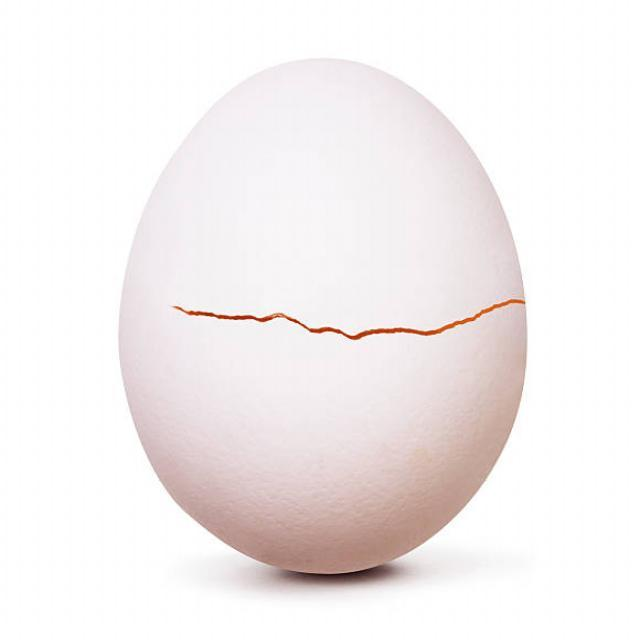biodegradable: (112, 51, 558, 588)
